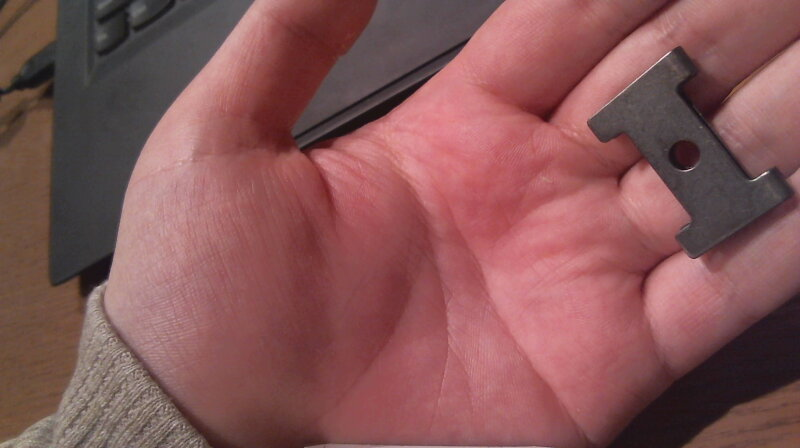O002: (581, 43, 792, 262)
